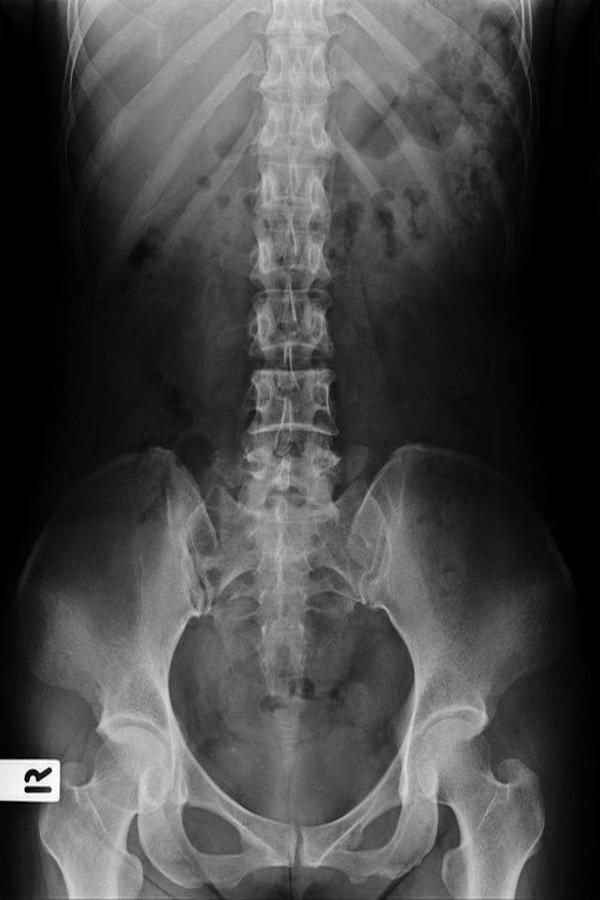lumbar scoliosis: (238, 6, 343, 567)
